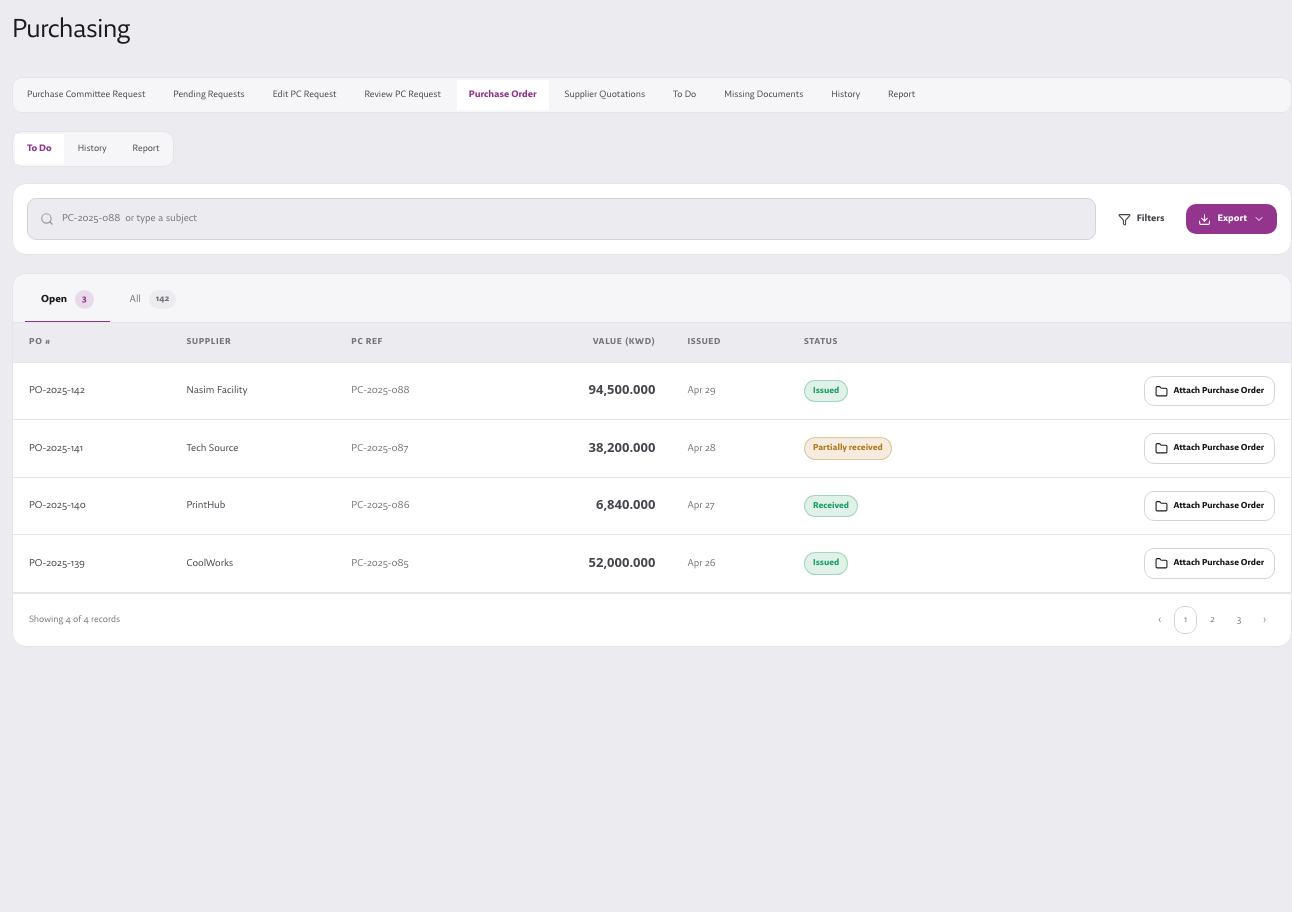
M6.4 Purchase Order › switches to Report: inert placeholder, filter present, never a table
The width and height of the screenshot is (1292, 912).
Step 1. Click the button "Report" → (146, 149), box [120,134,172,164]
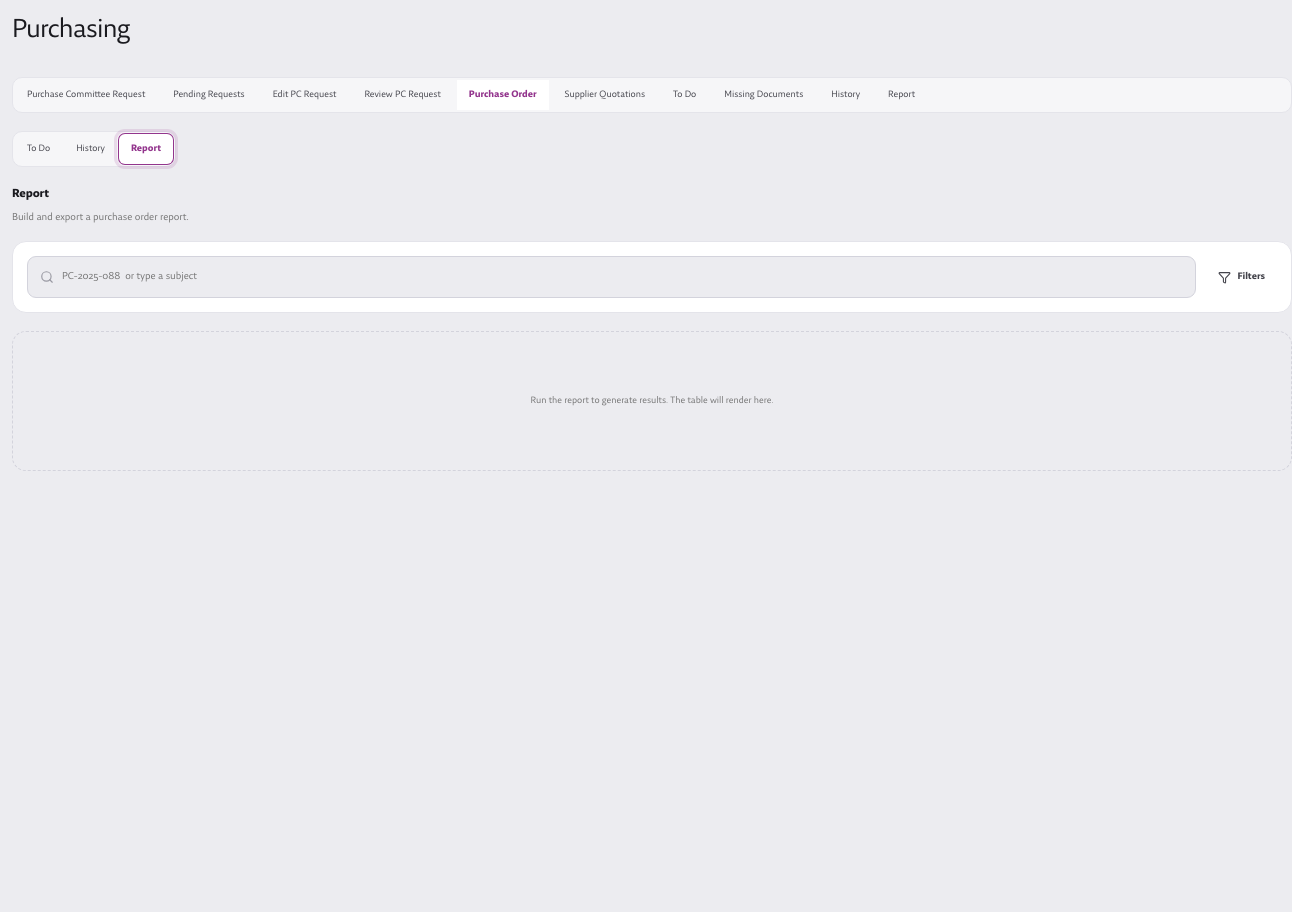
Check: the heading "Report" is shown, box [12,186,49,202]
Check: the text "Run the report to generate results. The table will render here." is shown, box [12,331,1291,471]
Check: the table is gone
